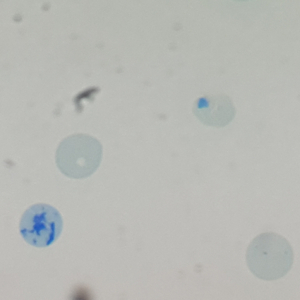aggregate reticulocyte: (17, 202, 65, 249)
erythrocyte: (53, 132, 105, 181), (190, 92, 238, 129)
punctate reticulocyte: (243, 230, 297, 282)
